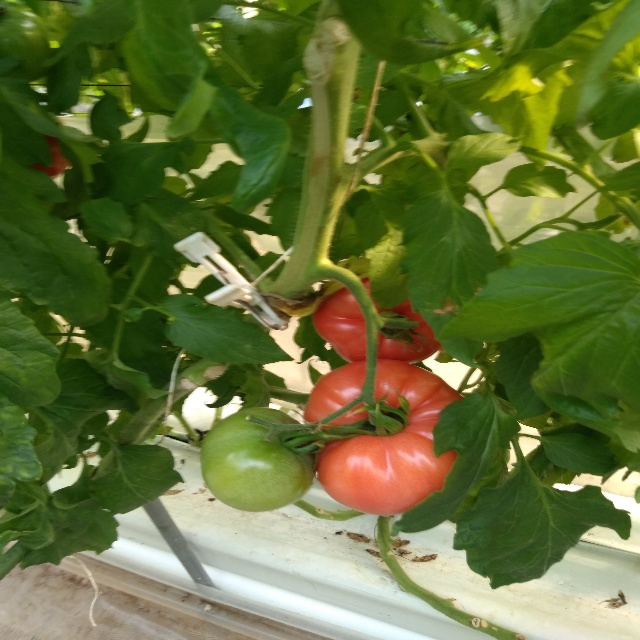b_fully_ripened: (303, 358, 475, 515), (312, 262, 443, 363)
b_green: (199, 406, 315, 513), (0, 5, 51, 81)
